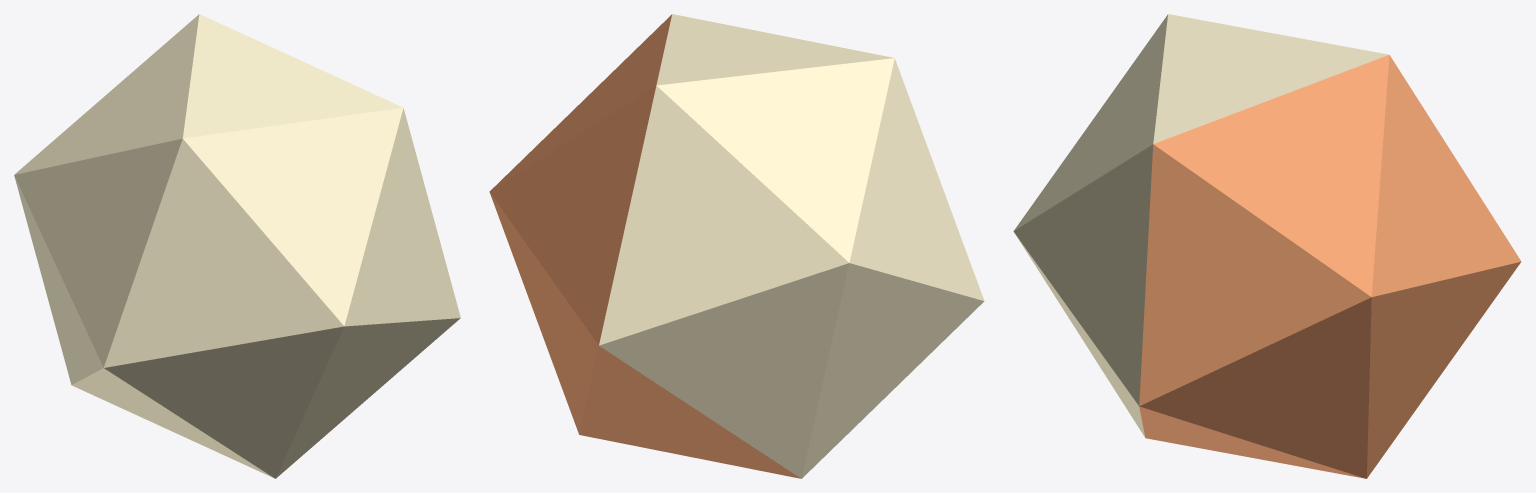
File: chunk.glb
The picture shows the model from 3 angles, left to right: view 1: azimuth 30°, elevation 25°; view 2: azimuth 150°, elevation 25°; view 3: azimuth 270°, elevation 25°; orthographic projection. The views are drawn at different scales.
Visible parts, largest first — view 1: Chunk; view 2: Chunk; view 3: Chunk.
Boxes of the visible parts, x1=… form: Chunk: x1=14, y1=14, x2=460, y2=478; Chunk: x1=489, y1=14, x2=984, y2=478; Chunk: x1=1013, y1=14, x2=1521, y2=478.
Bounding box in the file's own units: 0.4456 × 0.4365 × 0.4989.
